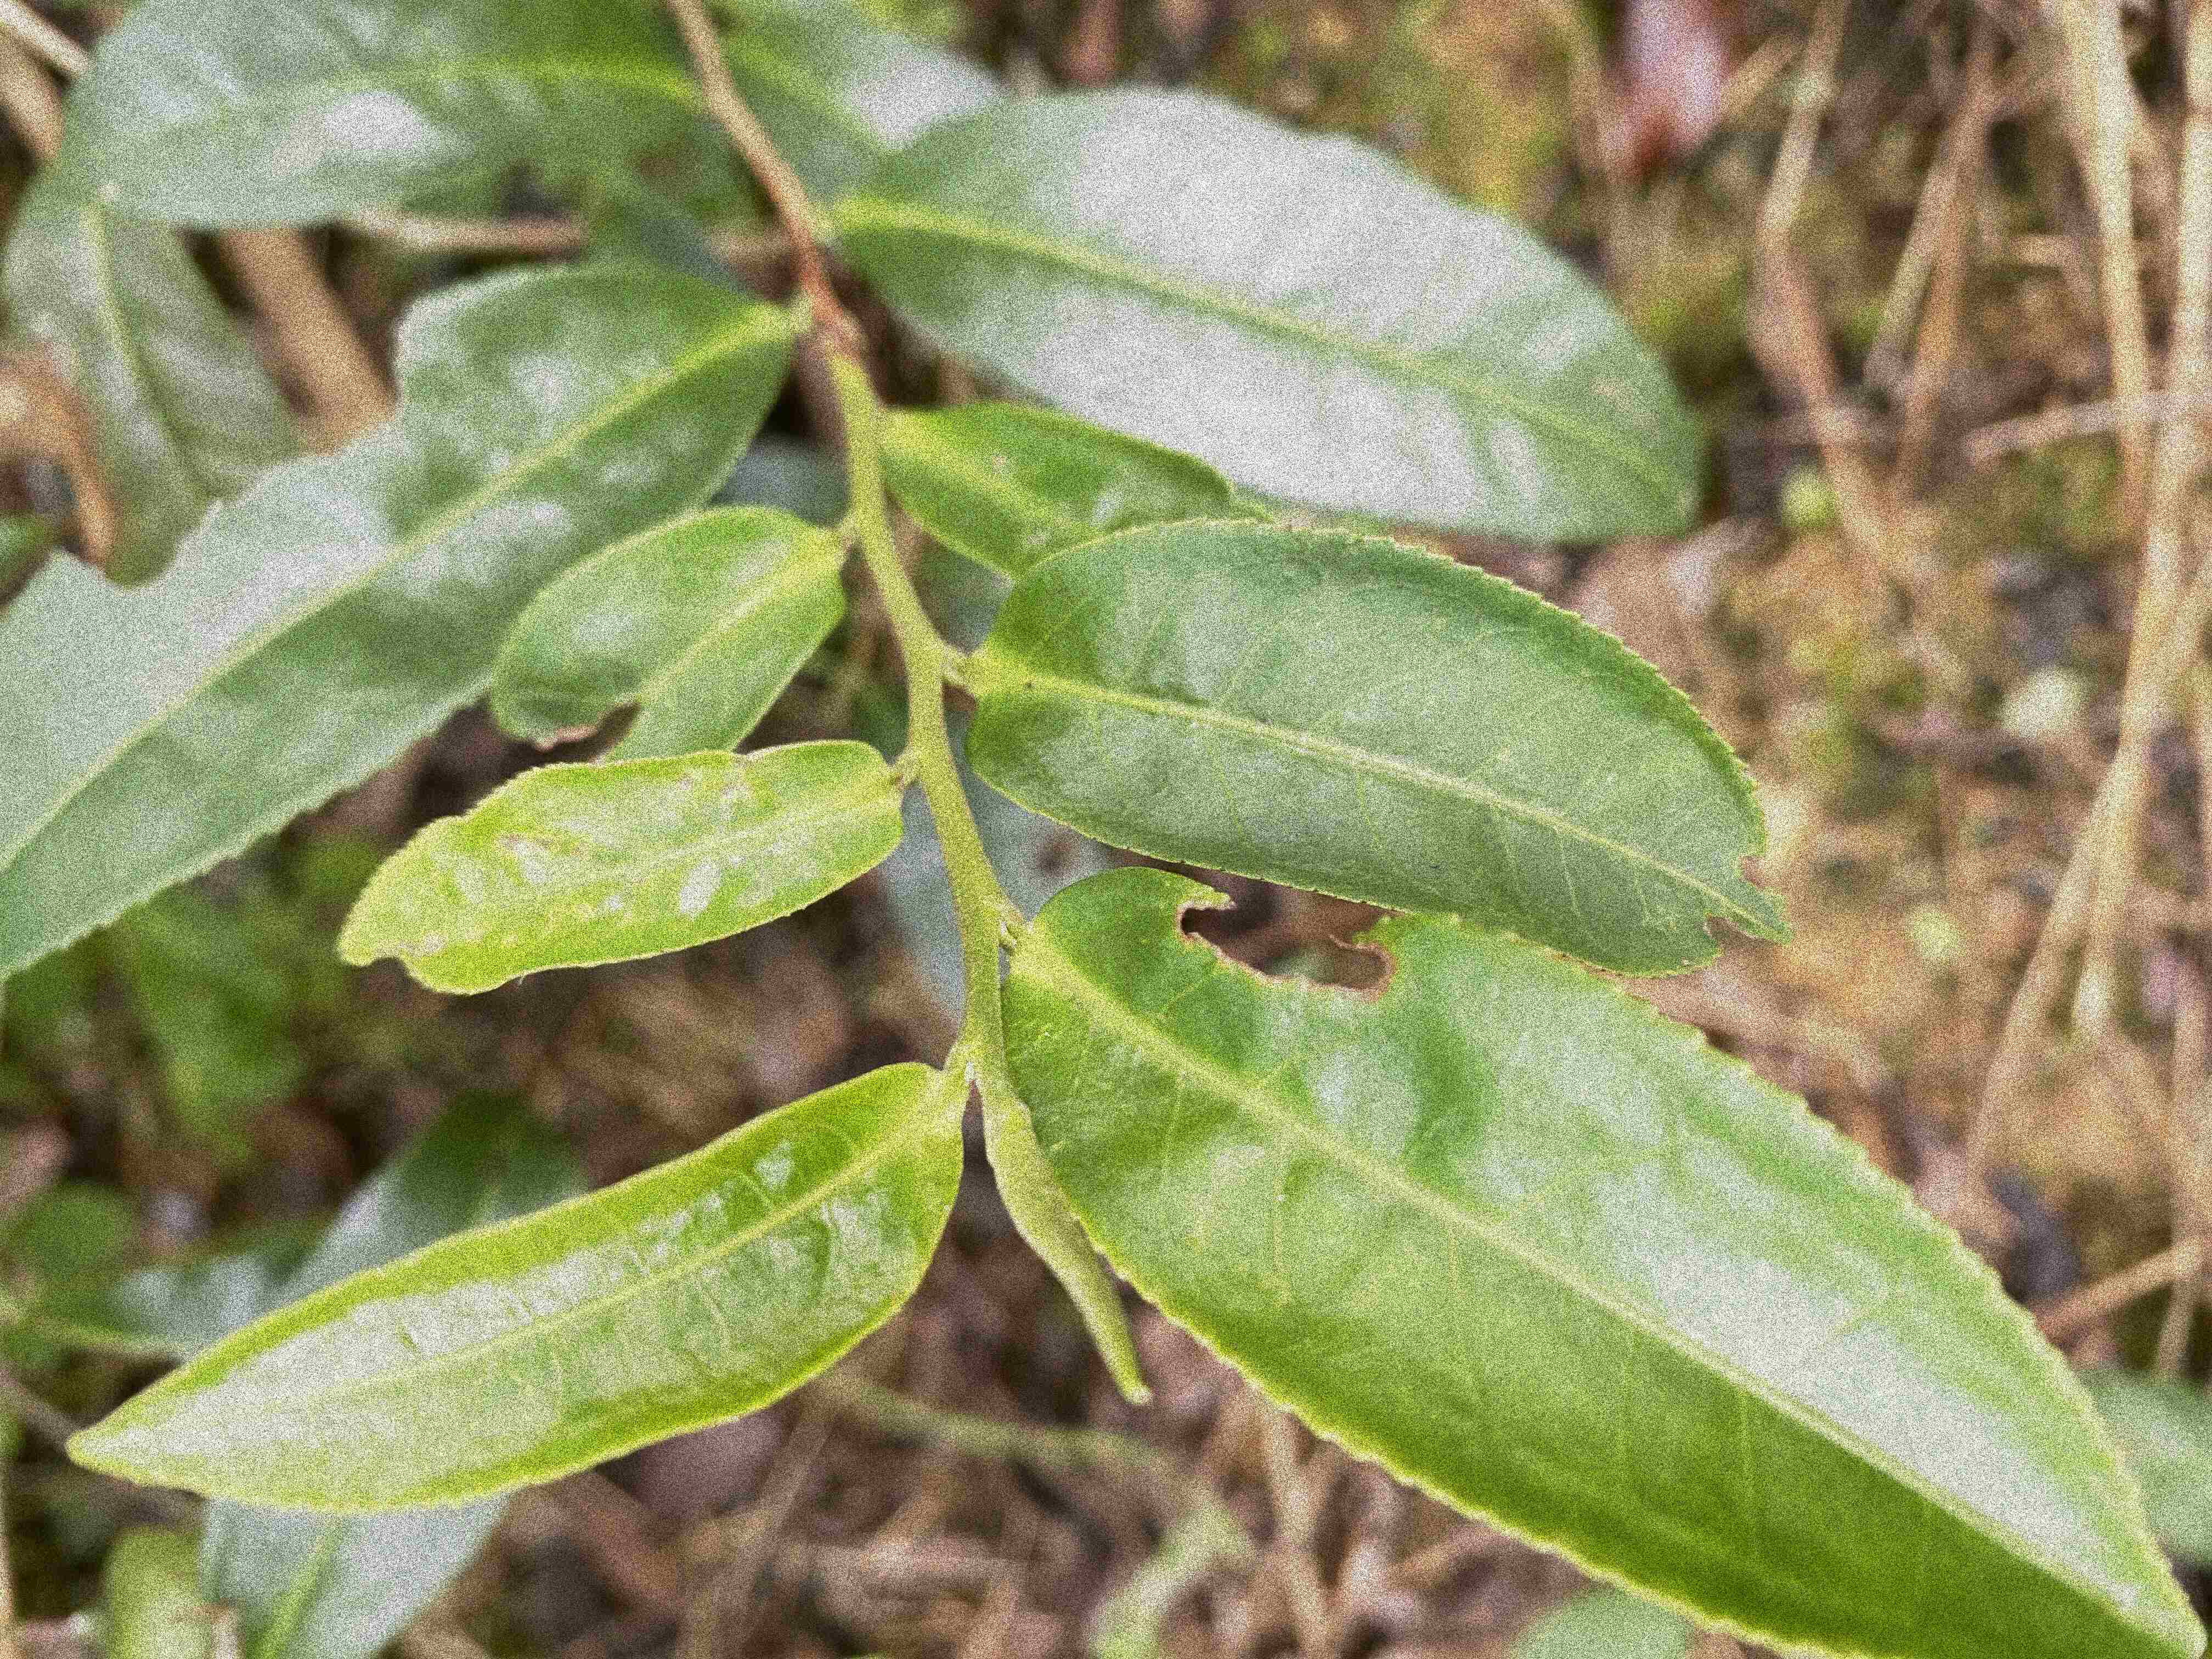chihuo_high: (965, 512, 1792, 979)
chihuo_low: (1003, 864, 2203, 1657), (2, 268, 794, 985)
healthy: (64, 1061, 963, 1516)
tanju_low: (334, 742, 909, 999)
